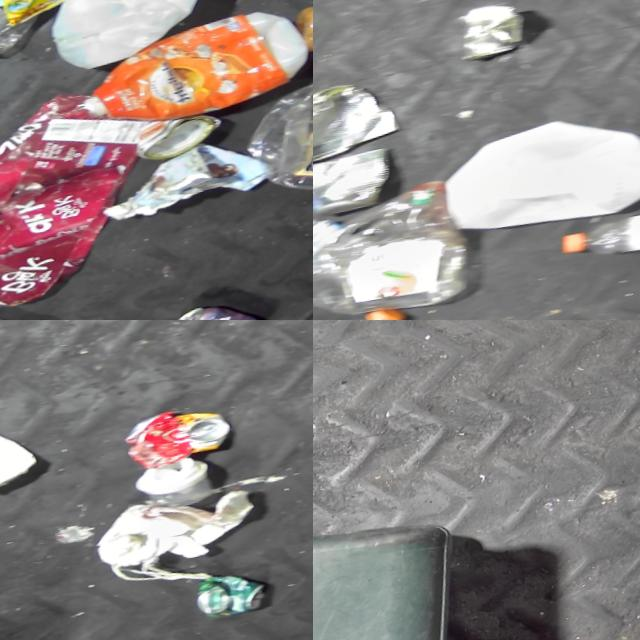can: (313, 73, 408, 171), (120, 400, 241, 469), (313, 146, 406, 222), (446, 0, 534, 65), (135, 110, 230, 164), (0, 404, 47, 505), (197, 565, 278, 621), (173, 294, 281, 320), (0, 0, 84, 28)
milk_jug: (435, 98, 640, 245), (38, 0, 264, 75)
non_white_jug: (73, 2, 313, 133), (313, 176, 488, 320)
plastic_bottle: (556, 197, 640, 269), (313, 211, 354, 276)
